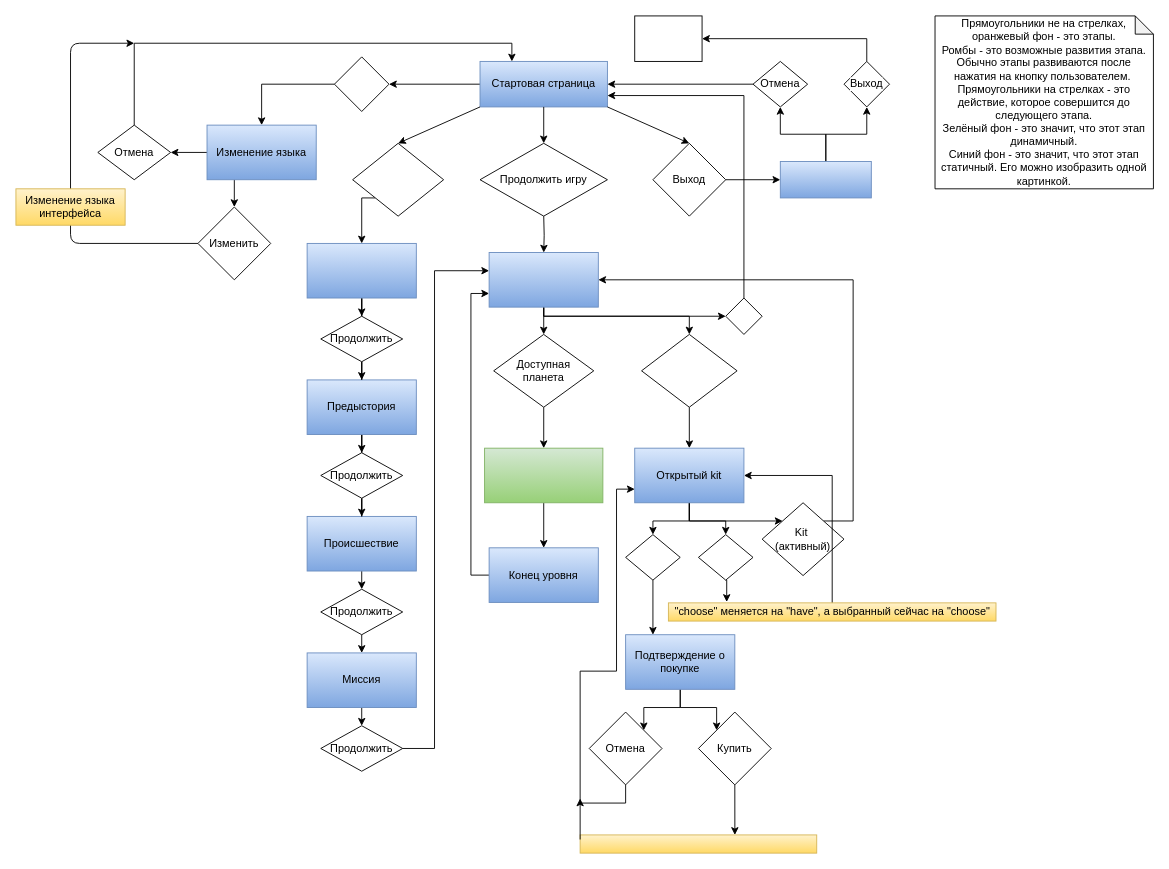
Image size: 1169x869. Some labels were removed from this diagram. The shapes that lost their labels are listed below. From the top down, each one's centre as x and y in pixels, then its label:
(x=668, y=38): offline
(x=361, y=83): Язык
(x=398, y=179): Новая игра
(x=825, y=179): Подтверждение выхода
(x=361, y=270): Создание новой игры
(x=543, y=279): Главное меню
(x=743, y=315): Back
(x=689, y=370): Kit (не активный)
(x=543, y=475): Прохождение уровня
(x=652, y=557): Buy
(x=725, y=557): Have
(x=698, y=843): Изменяется "buy" на "have" у того, что купил
